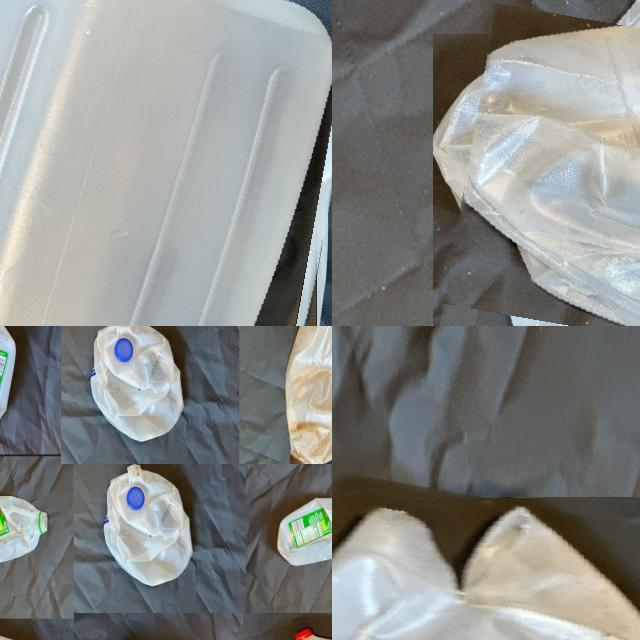milk-jug: (0, 0, 332, 326), (452, 0, 640, 326), (332, 481, 640, 640), (96, 468, 200, 582), (91, 326, 183, 442), (280, 326, 332, 461), (276, 491, 332, 568), (0, 491, 52, 573), (0, 326, 26, 452)
